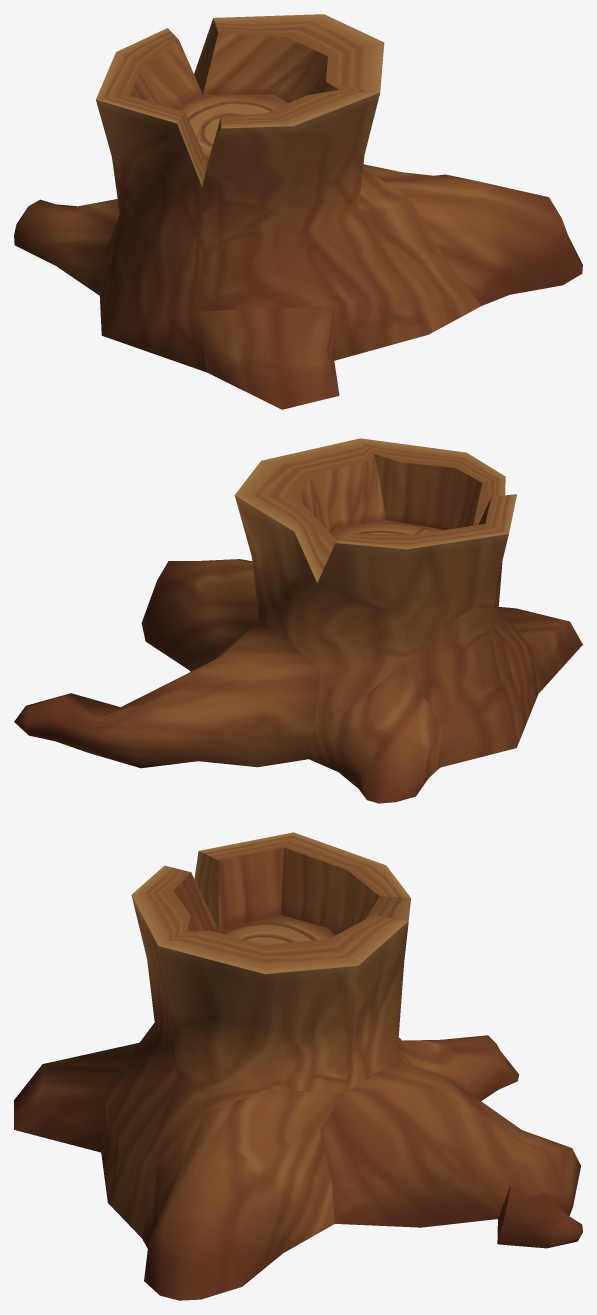
File: Tree Stump #1.fbx
The picture shows the model from 3 angles, top to bottom: view 1: azimuth 30°, elevation 25°; view 2: azimuth 150°, elevation 25°; view 3: azimuth 270°, elevation 25°; orthographic projection. The views are drawn at different scales.
Visible parts, largest first — view 1: Tree Stump #1; view 2: Tree Stump #1; view 3: Tree Stump #1.
Part boxes in pixels (x1=…): Tree Stump #1: x1=14, y1=14, x2=582, y2=409; Tree Stump #1: x1=14, y1=438, x2=582, y2=803; Tree Stump #1: x1=14, y1=832, x2=582, y2=1300.
Bounding box in the file's own units: 111 × 56.8 × 120.
Materials: 1 (1 with a texture image).
